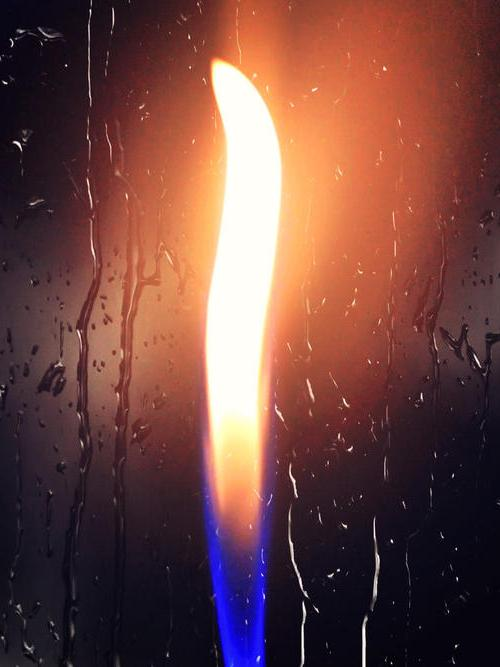fire: (191, 48, 297, 666)
